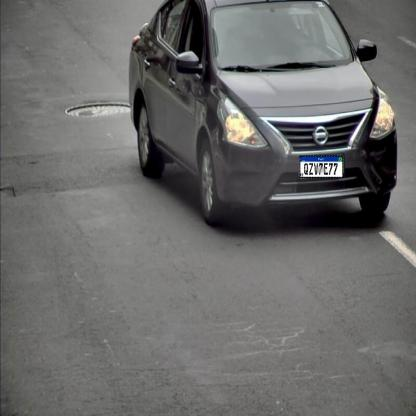PlacaM: (300, 155, 343, 178)
